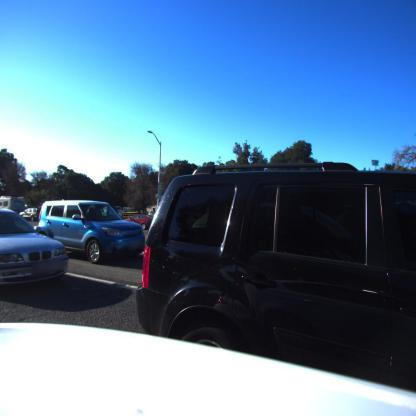car: (35, 199, 146, 263), (0, 208, 72, 288), (127, 214, 153, 230), (20, 207, 40, 220)
truck: (137, 158, 415, 406), (0, 196, 26, 215)
